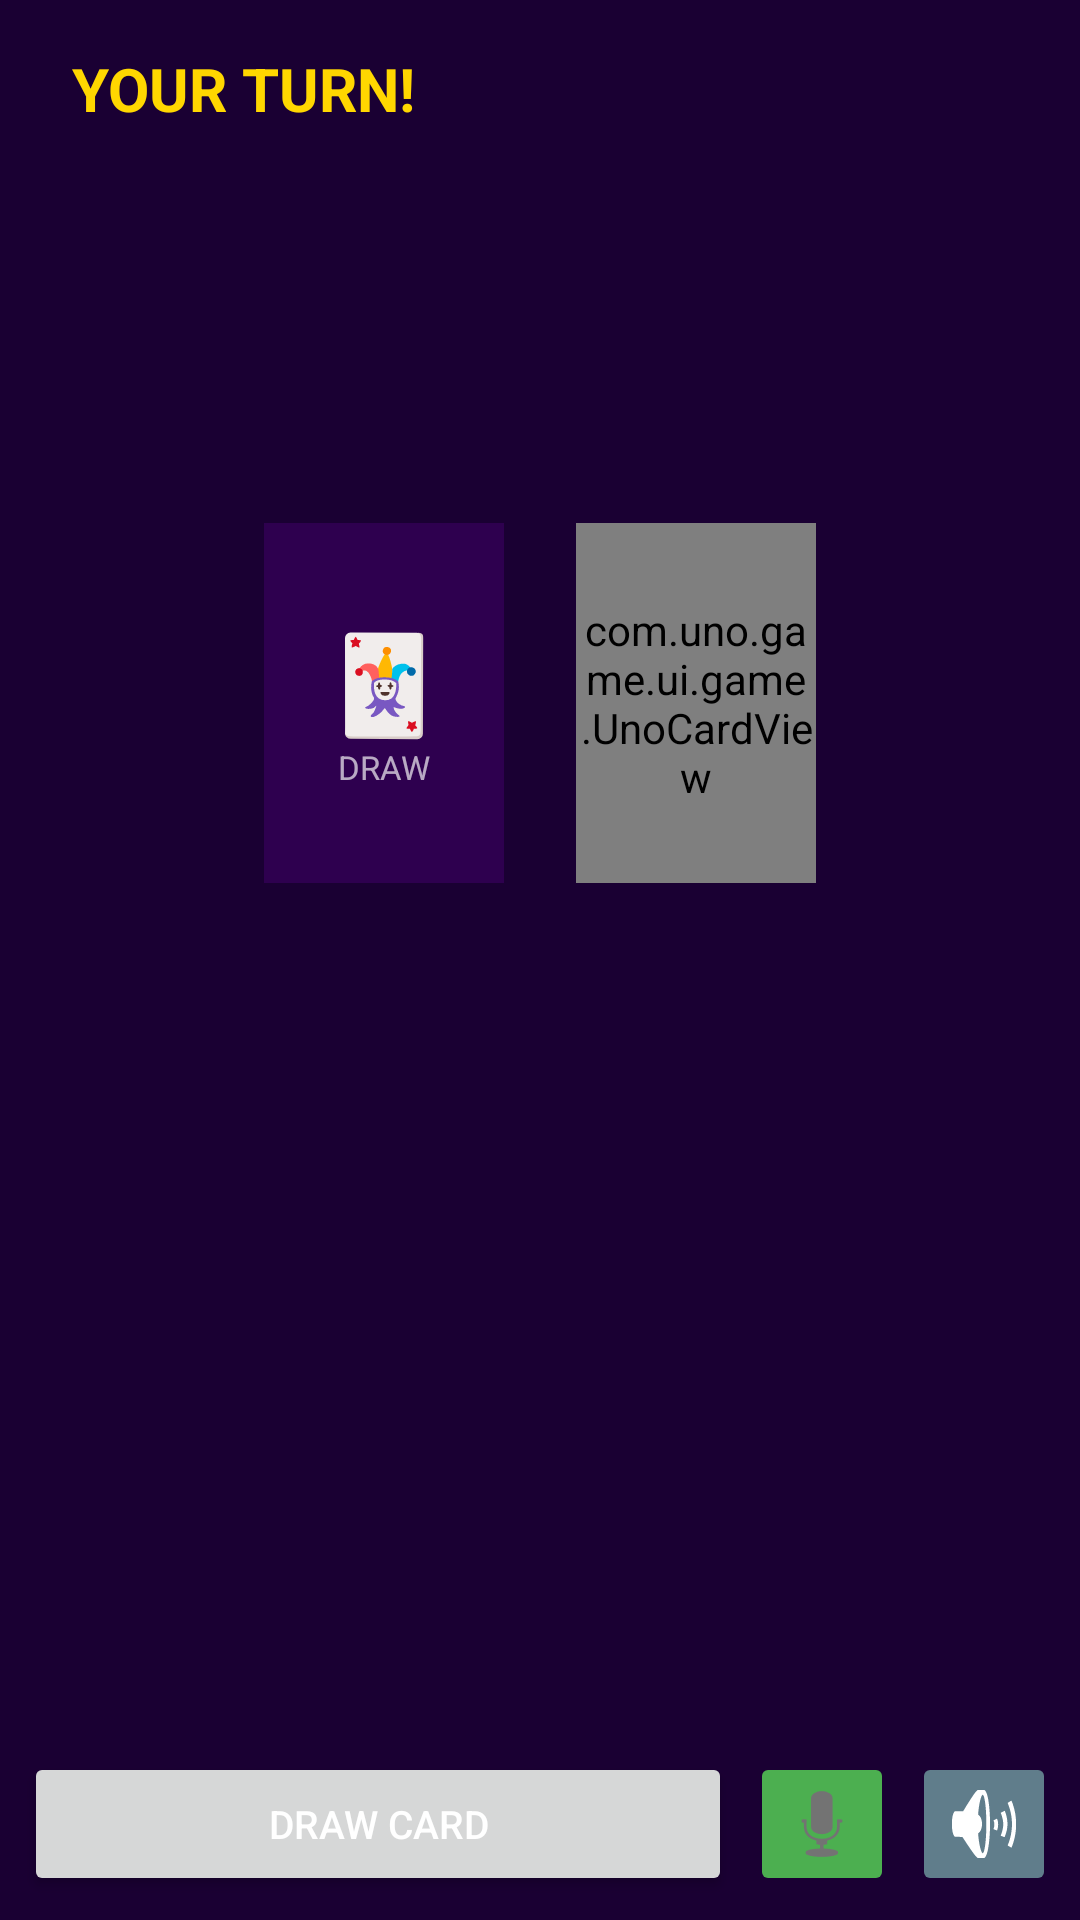

Icons on this 1080w x 1920h Android screen, each with its box as (x1, y1, x2, y2):
lock silent mode off: (924, 1770, 1044, 1878)
speak now: (762, 1770, 882, 1878)
